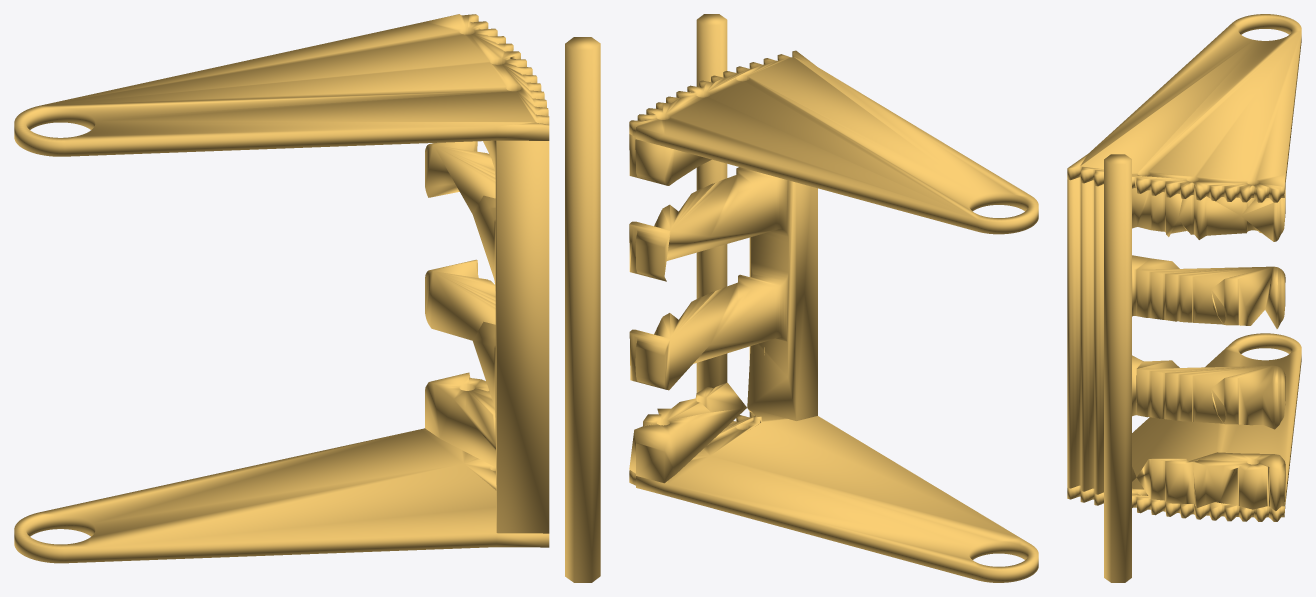
3 views of the same model, side by side, from view 1: azimuth 30°, elevation 25°; view 2: azimuth 150°, elevation 25°; view 3: azimuth 270°, elevation 25° (orthographic). The views are drawn at different scales.
Visible parts, largest first — view 1: 2923_Right Aimer Panel, 2965_Left Aimer Panel, 2925_Spur gear (156 teeth), 2949_Churro Shaft Shooter; view 2: 2925_Spur gear (156 teeth), 2923_Right Aimer Panel, 2965_Left Aimer Panel, 2949_Churro Shaft Shooter; view 3: 2925_Spur gear (156 teeth), 2923_Right Aimer Panel, 2949_Churro Shaft Shooter, 2965_Left Aimer Panel.
Boxes of the visible parts, <box> form: 2923_Right Aimer Panel: <box>14,14,549,156</box>; 2965_Left Aimer Panel: <box>14,428,549,563</box>; 2925_Spur gear (156 teeth): <box>425,140,549,533</box>; 2949_Churro Shaft Shooter: <box>565,37,600,582</box>; 2925_Spur gear (156 teeth): <box>629,134,817,483</box>; 2923_Right Aimer Panel: <box>629,50,1038,234</box>; 2965_Left Aimer Panel: <box>629,412,1038,582</box>; 2949_Churro Shaft Shooter: <box>696,14,727,392</box>; 2925_Spur gear (156 teeth): <box>1067,177,1285,510</box>; 2923_Right Aimer Panel: <box>1067,14,1301,202</box>; 2949_Churro Shaft Shooter: <box>1104,154,1131,582</box>; 2965_Left Aimer Panel: <box>1067,333,1301,521</box>.
Bounding box in the file's own units: 0.2285 × 0.2413 × 0.1225.
